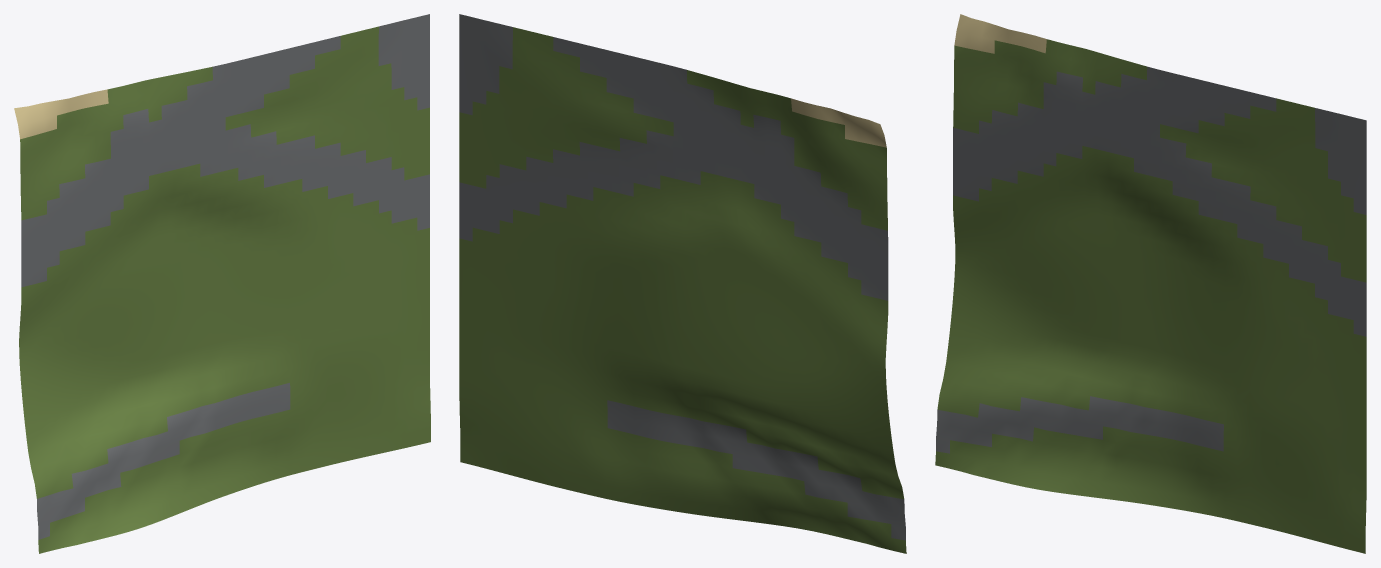
Rendered from island_terrain_08_09.obj.
3 views of the same model, side by side, from view 1: azimuth 30°, elevation 25°; view 2: azimuth 150°, elevation 25°; view 3: azimuth 330°, elevation 25° (orthographic). The views are drawn at different scales.
Parts seen in each view (by area): view 1: island_terrain_08_09; view 2: island_terrain_08_09; view 3: island_terrain_08_09.
Boxes of the visible parts, x1=… form: island_terrain_08_09: x1=14, y1=14, x2=430, y2=553; island_terrain_08_09: x1=459, y1=14, x2=906, y2=553; island_terrain_08_09: x1=935, y1=14, x2=1366, y2=553.
Size of the model in its own units: 256 by 256 by 27.45.
